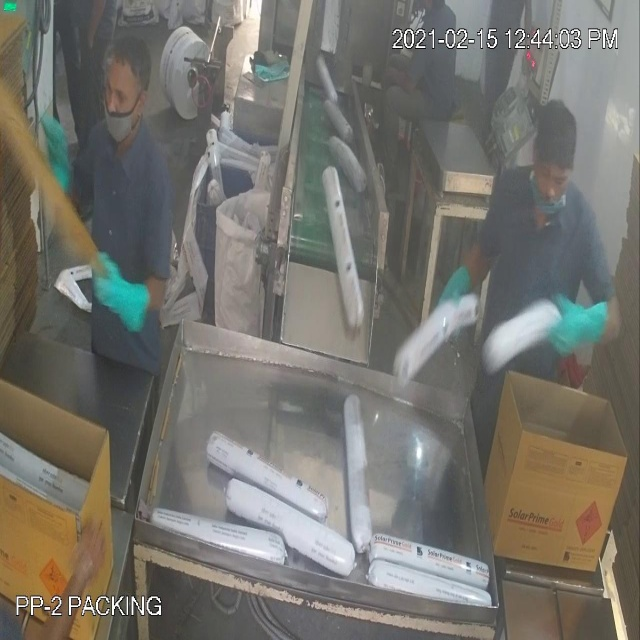Guantes: (78, 244, 161, 341), (545, 286, 619, 365)
Sin_guantes: (370, 65, 431, 104)
